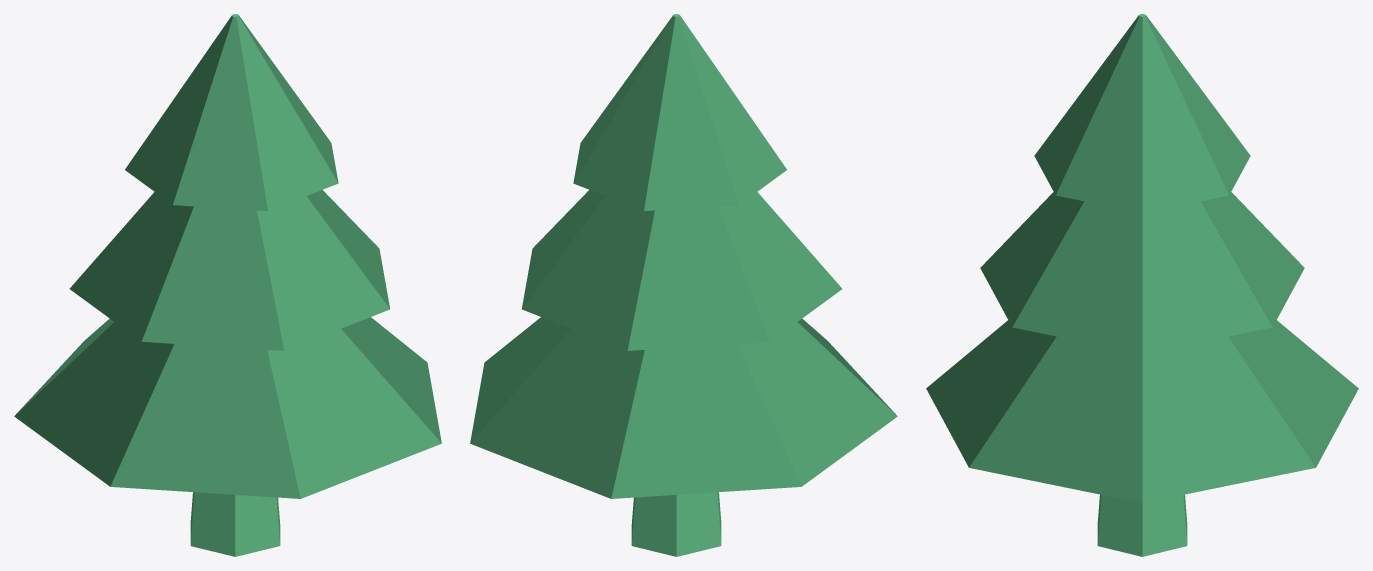
The model's file is tree_stylized.glb.
3 views of the same model, side by side, from view 1: azimuth 30°, elevation 25°; view 2: azimuth 150°, elevation 25°; view 3: azimuth 270°, elevation 25° (orthographic).
Parts seen in each view (by area): view 1: StylizedTree; view 2: StylizedTree; view 3: StylizedTree.
Boxes of the visible parts, <box> form: StylizedTree: <box>14,14,441,556</box>; StylizedTree: <box>470,14,897,556</box>; StylizedTree: <box>926,14,1358,556</box>.
Size of the model in its own units: 2.28 by 3.1 by 2.34.
